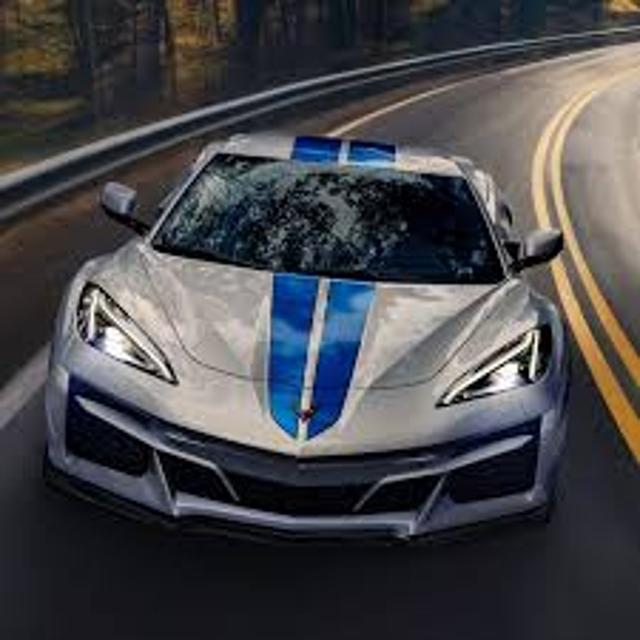car: (46, 133, 567, 548)
